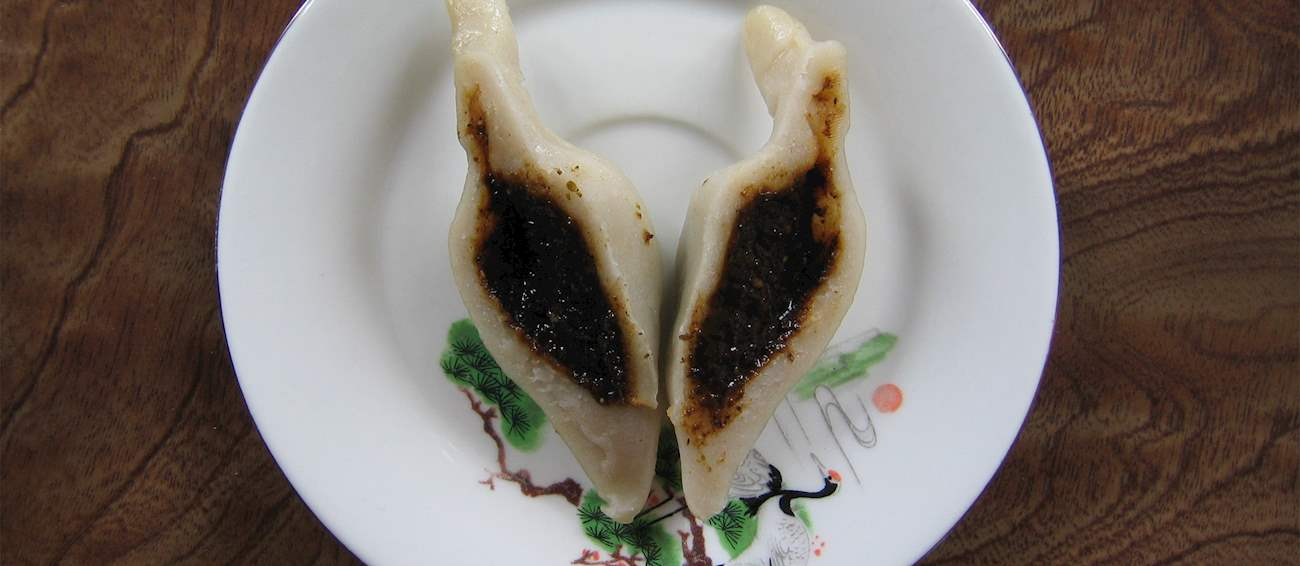yomari: (391, 3, 657, 484), (670, 19, 886, 449)
